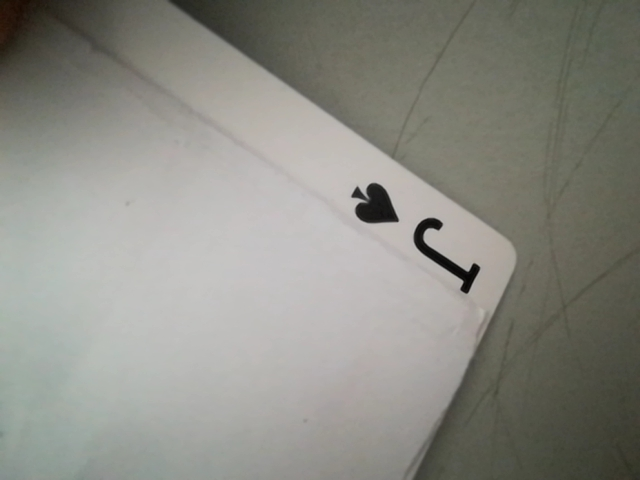ht j: (333, 173, 498, 291)
